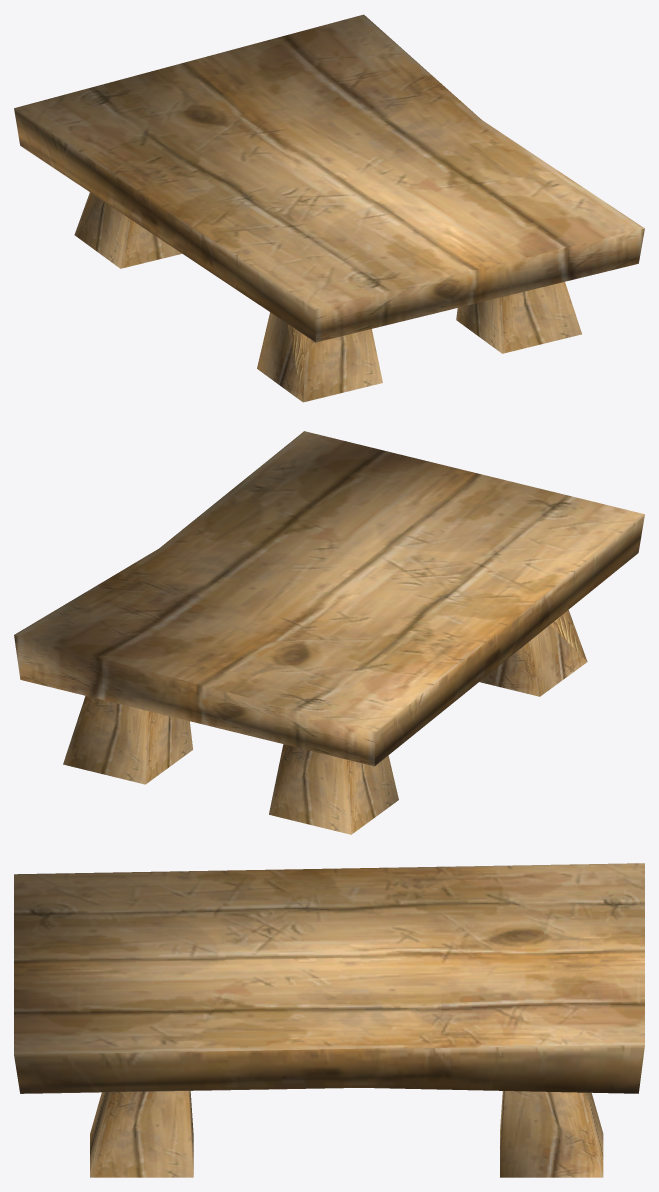
The model's file is inntable.obj.
3 renders of one model, top to bottom at view 1: azimuth 30°, elevation 25°; view 2: azimuth 150°, elevation 25°; view 3: azimuth 270°, elevation 25°, orthographic. The views are drawn at different scales.
Visible parts, largest first — view 1: inntable; view 2: inntable; view 3: inntable.
Part boxes in pixels (<box>): inntable: <box>14,14,644,402</box>; inntable: <box>14,431,644,834</box>; inntable: <box>14,863,644,1177</box>.
Size of the model in its own units: 2.86 by 1.03 by 3.98.
Materials: 1 (1 with a texture image).
